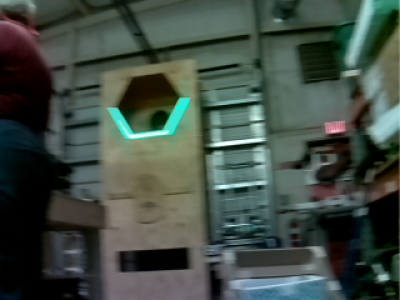target: (107, 97, 190, 140)
